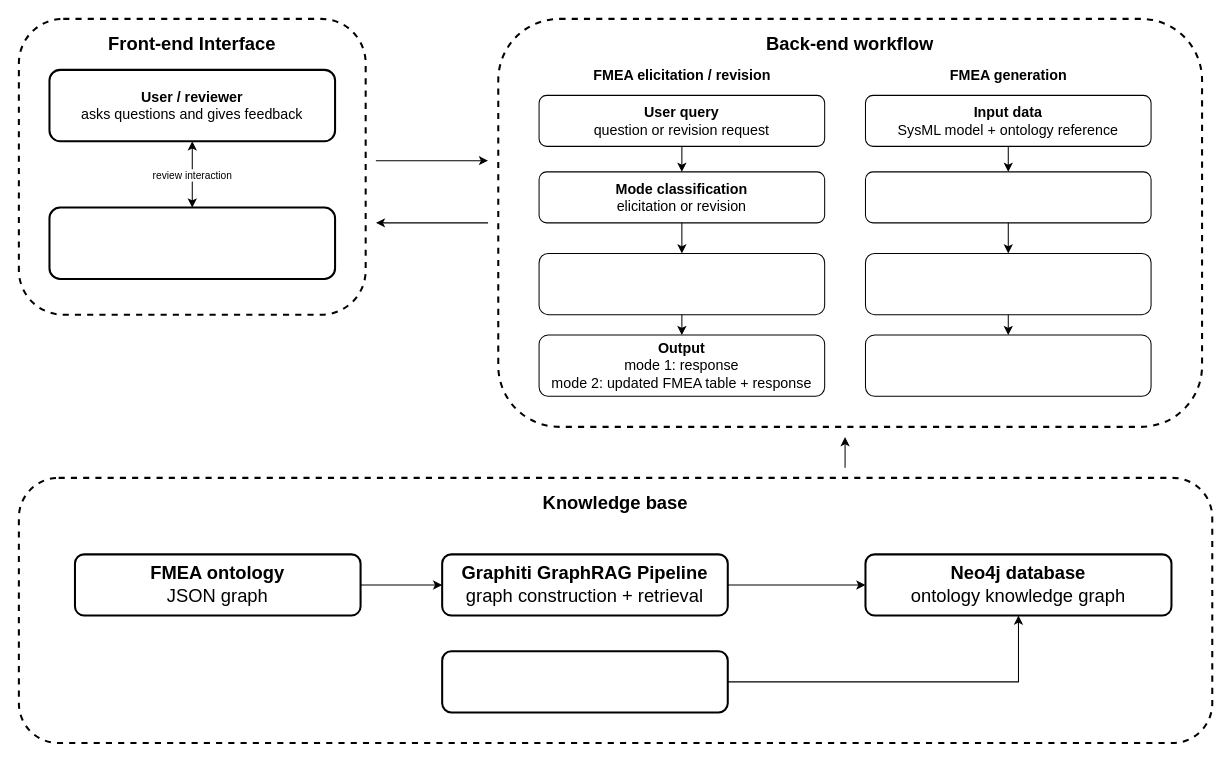
This 1230x761 diagram has some shape labels left out. Here are the shapes that lost their labels. From the top down, the centre of each, then its label:
At point 1007,197: "JavaScript SysML parser deterministic extraction".
At point 192,242: "Generated FMEA table inspect, explain, revise".
At point 681,283: "AI Reasoning OpenAI gpt-4.1-mini elicitation / revision".
At point 1007,283: "AI Reasoning OpenAI gpt-4.1-mini FMEA generation".
At point 1007,365: "Output generated FMEA table rows, review, scores".
At point 584,681: "Word embeddings OpenAI text-embedding-3-small".
